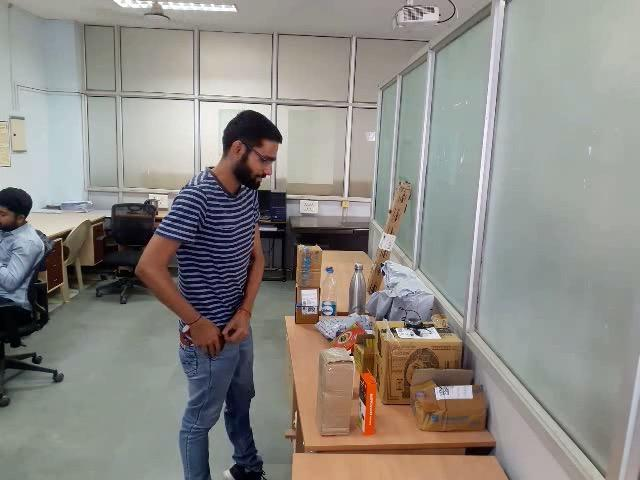shoplifting: (143, 293, 272, 373)
